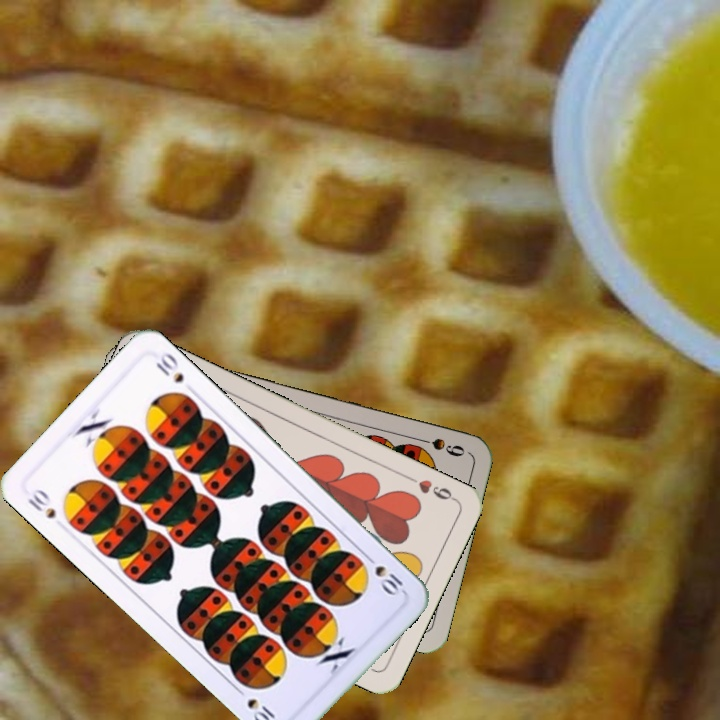H9: (403, 471, 459, 504)
S10: (360, 549, 407, 598), (23, 484, 59, 522)
S9: (410, 433, 468, 460)
